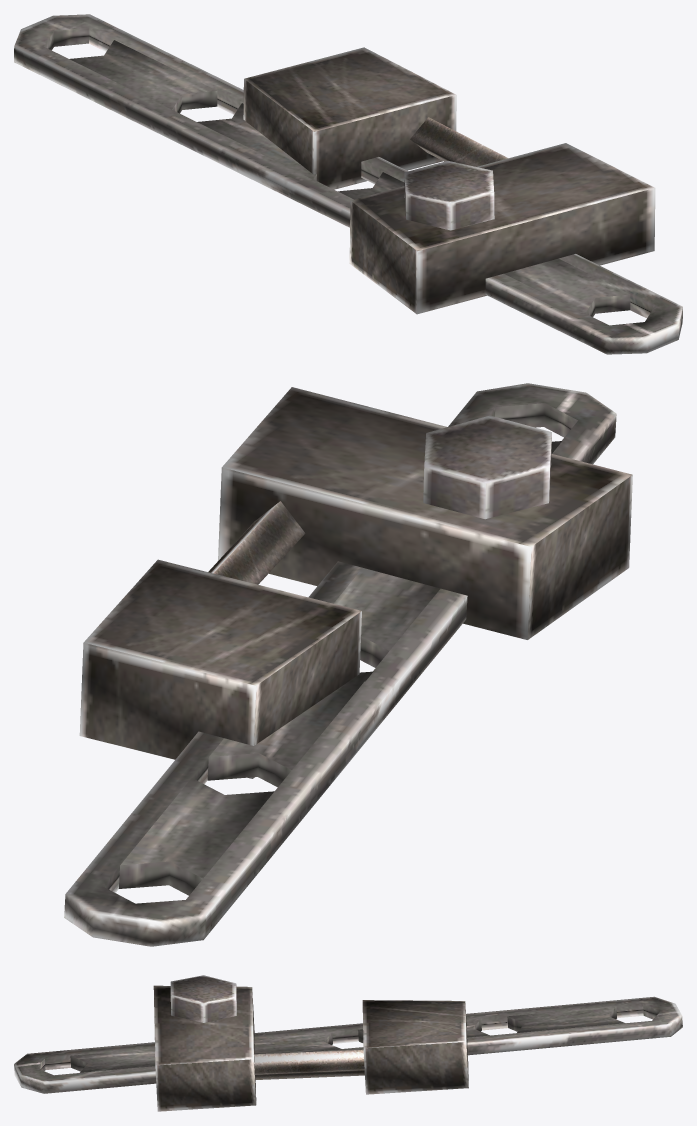
Rendered from Robot01.LeftShoulder3.fbx.
The picture shows the model from 3 angles, top to bottom: view 1: azimuth 30°, elevation 25°; view 2: azimuth 150°, elevation 25°; view 3: azimuth 270°, elevation 25°; orthographic projection. The views are drawn at different scales.
Visible parts, largest first — view 1: Robot.024; view 2: Robot.024; view 3: Robot.024.
Boxes of the visible parts, bbox=[...] form: Robot.024: bbox=[14, 14, 682, 354]; Robot.024: bbox=[64, 383, 632, 946]; Robot.024: bbox=[14, 975, 682, 1111].
Size of the model in its own units: 31.66 by 9.78 by 88.73.
